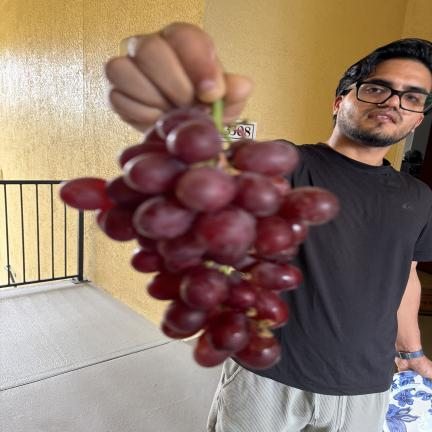grape_cluster: (60, 100, 339, 370)
